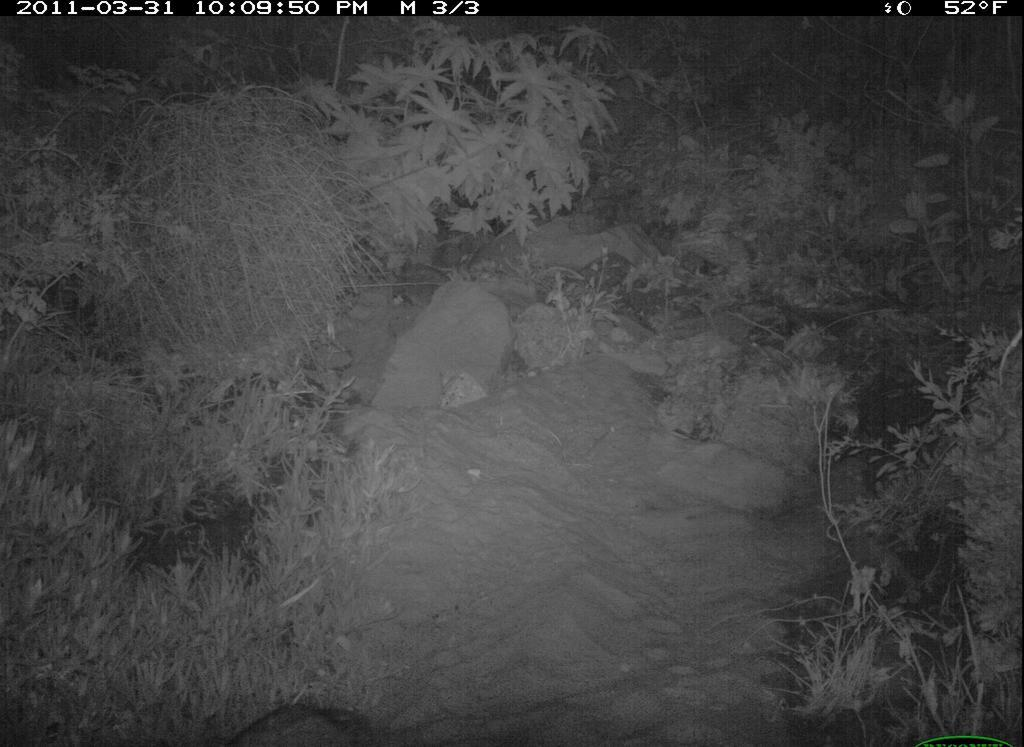raccoon: (218, 688, 392, 745)
